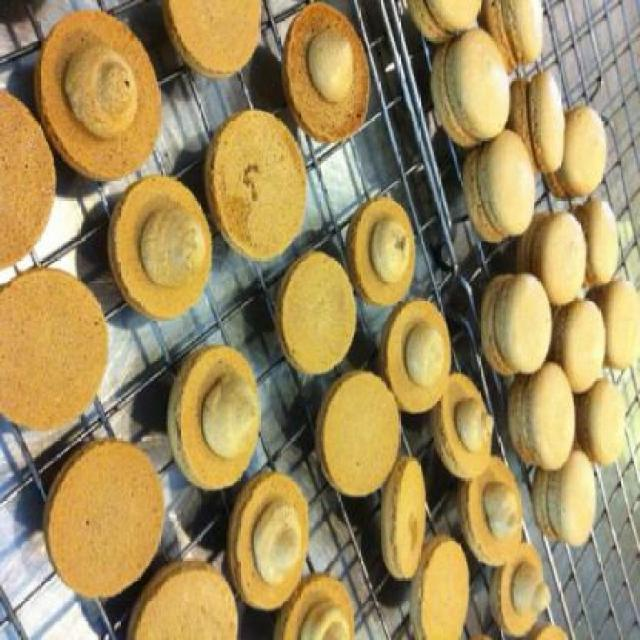Macaron: (6, 6, 638, 638)
